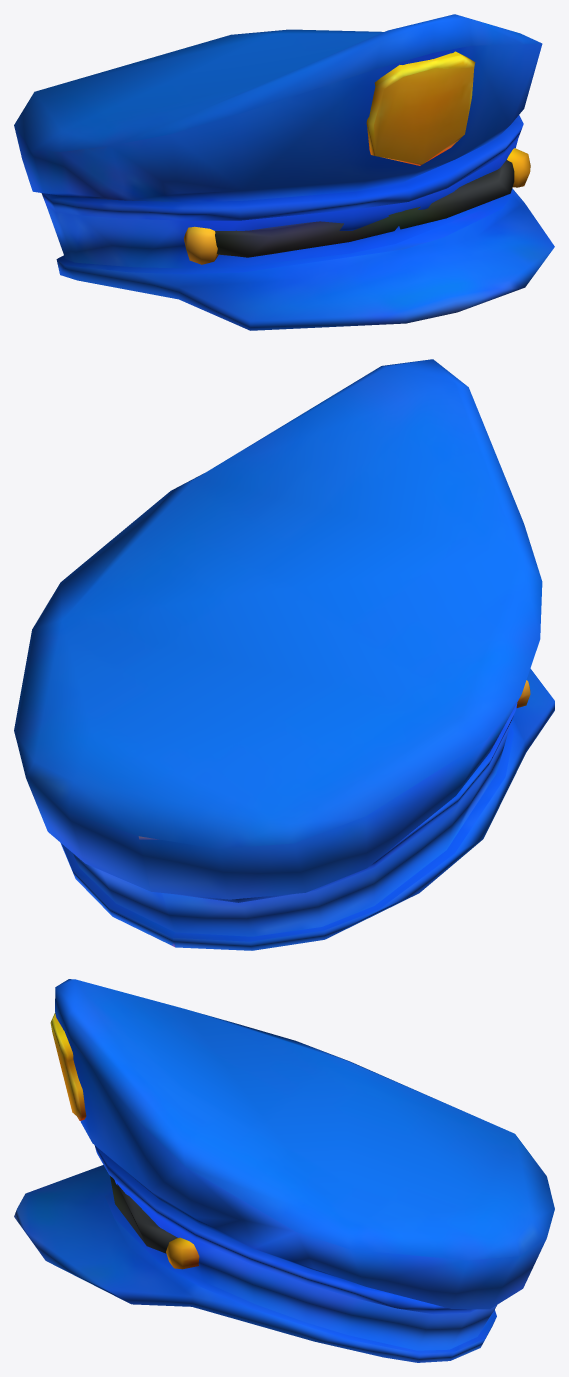
The model's file is Police_Hat.glb.
The picture shows the model from 3 angles, top to bottom: view 1: azimuth 30°, elevation 25°; view 2: azimuth 150°, elevation 25°; view 3: azimuth 270°, elevation 25°; orthographic projection. The views are drawn at different scales.
Visible parts, largest first — view 1: Police_Hat; view 2: Police_Hat; view 3: Police_Hat.
Part boxes in pixels (bbox=[...]): Police_Hat: bbox=[14, 14, 554, 330]; Police_Hat: bbox=[14, 359, 554, 950]; Police_Hat: bbox=[14, 979, 554, 1362].
Size of the model in its own units: 0.5484 by 0.4544 by 0.657.
1 material, 1 textured.
